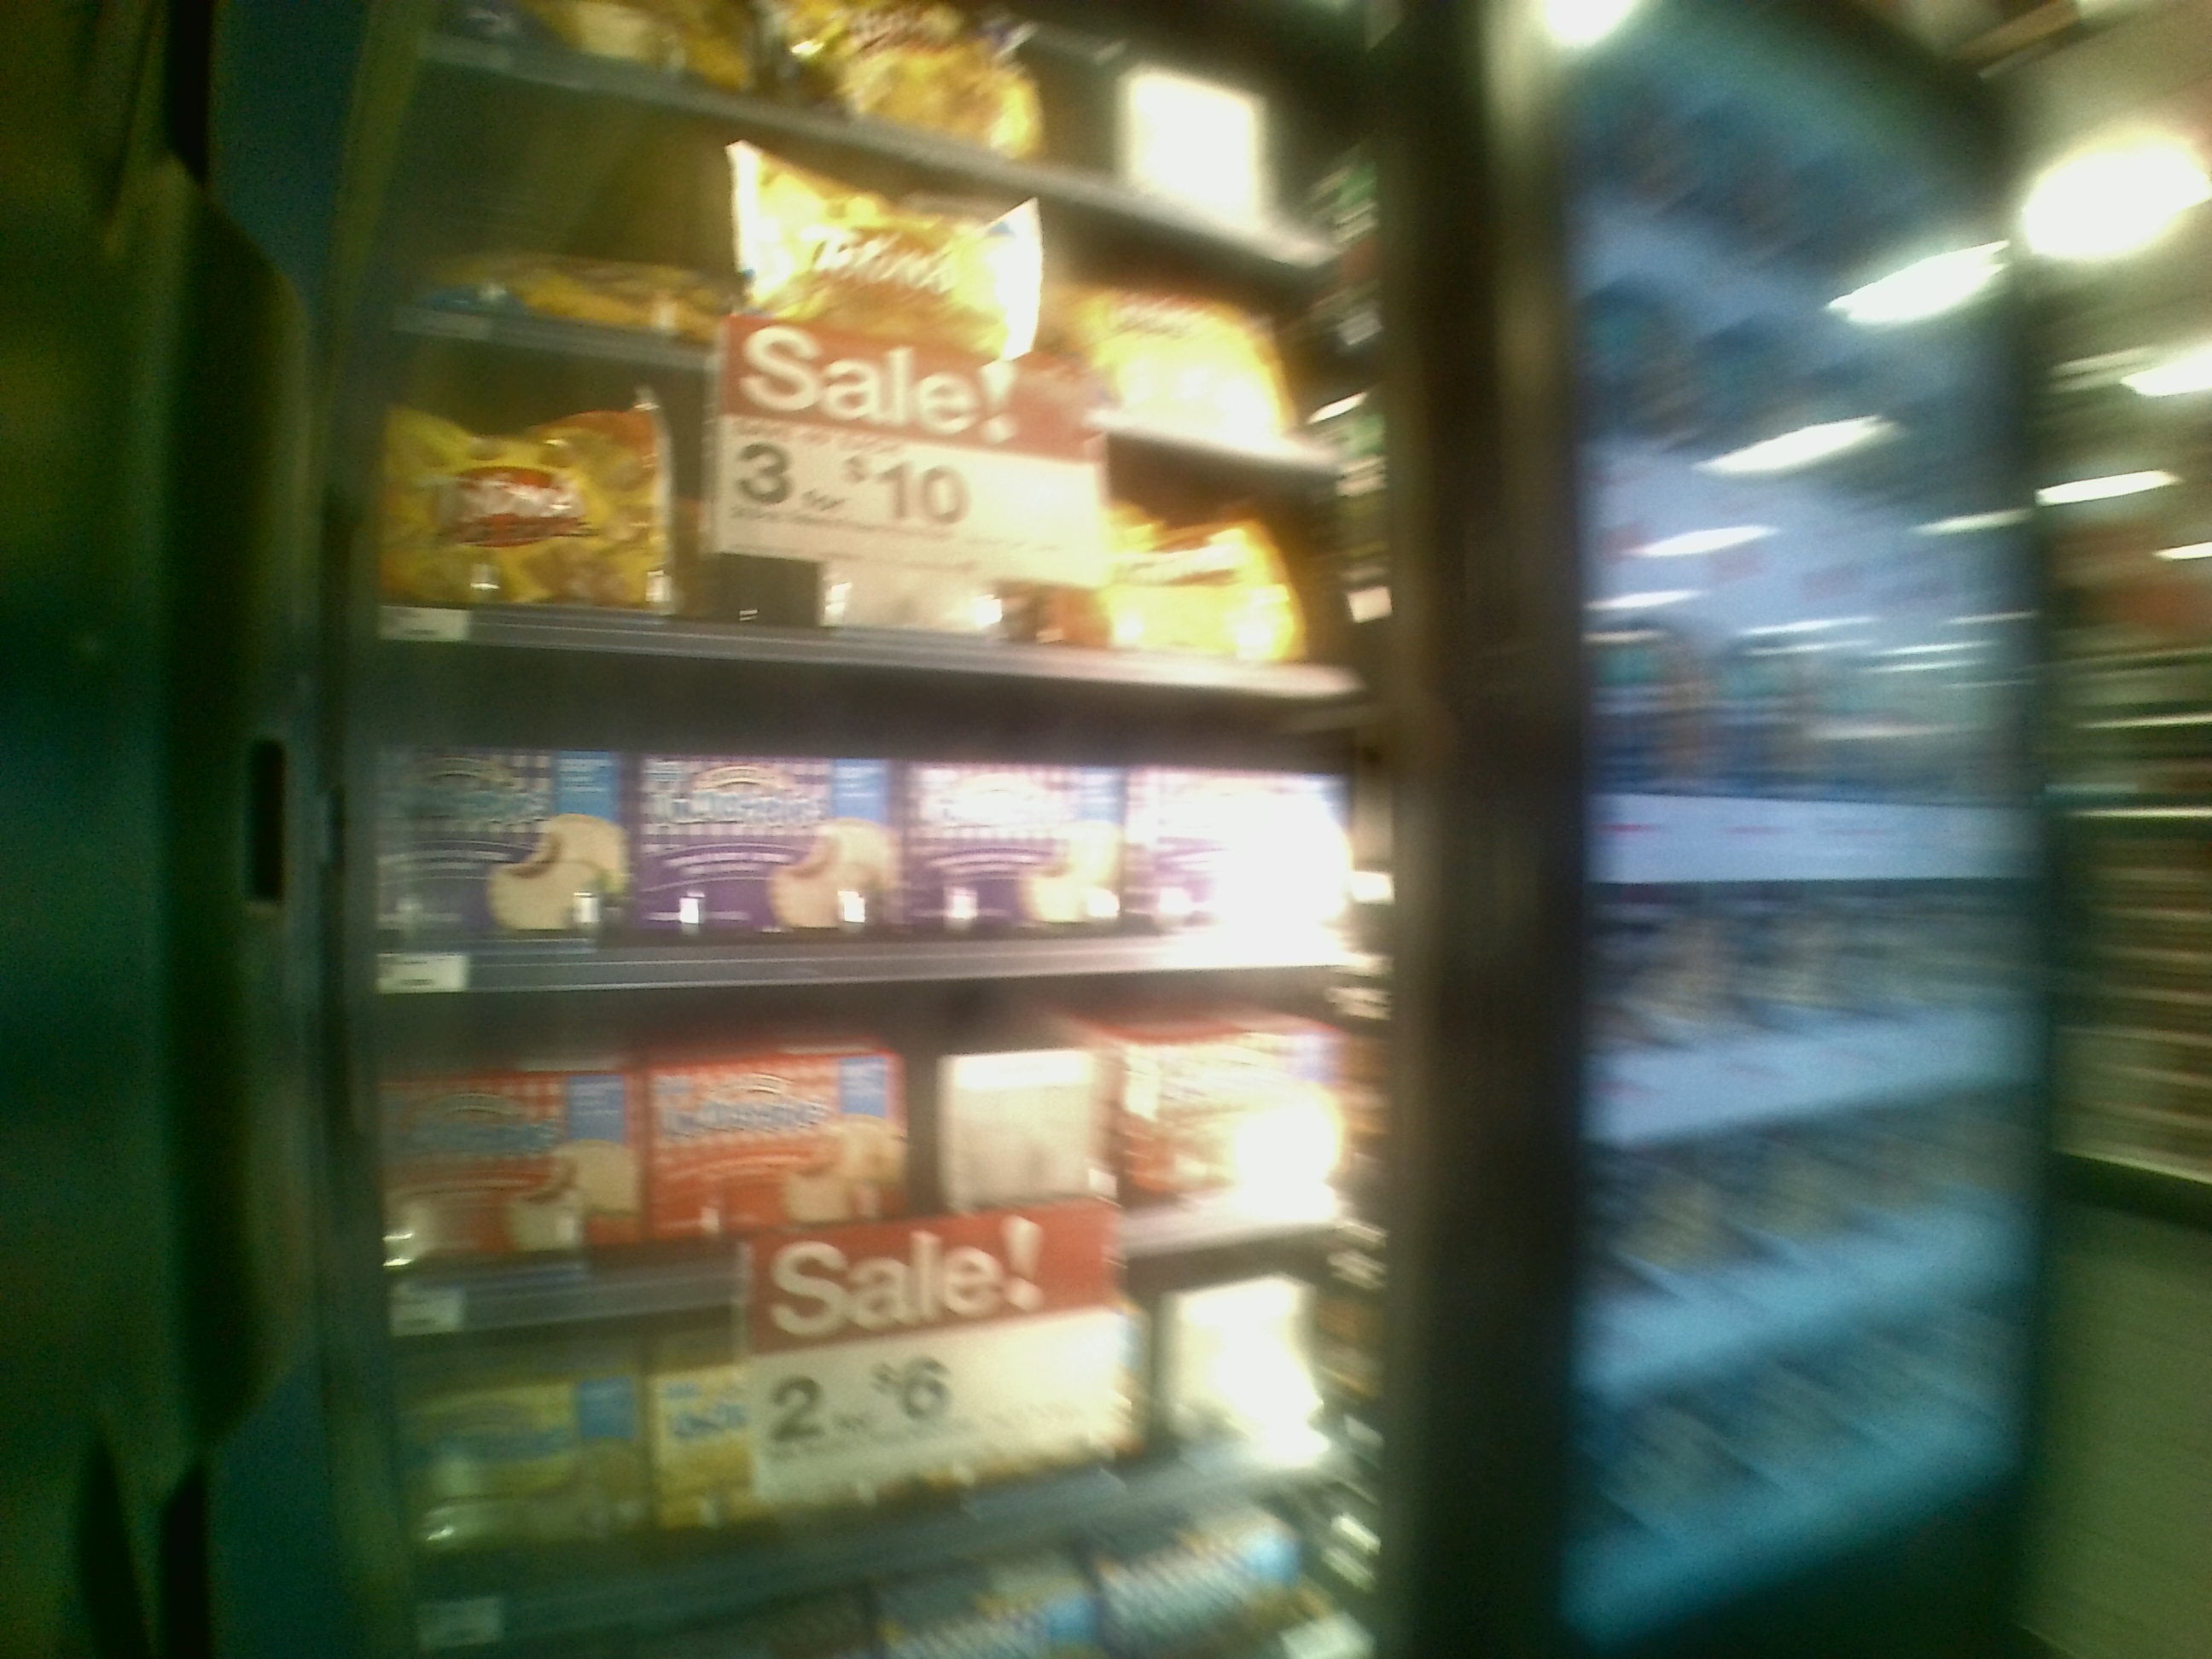shelf: (359, 319, 1348, 701), (359, 622, 1378, 951), (364, 967, 1364, 1255), (420, 1290, 1322, 1492)
